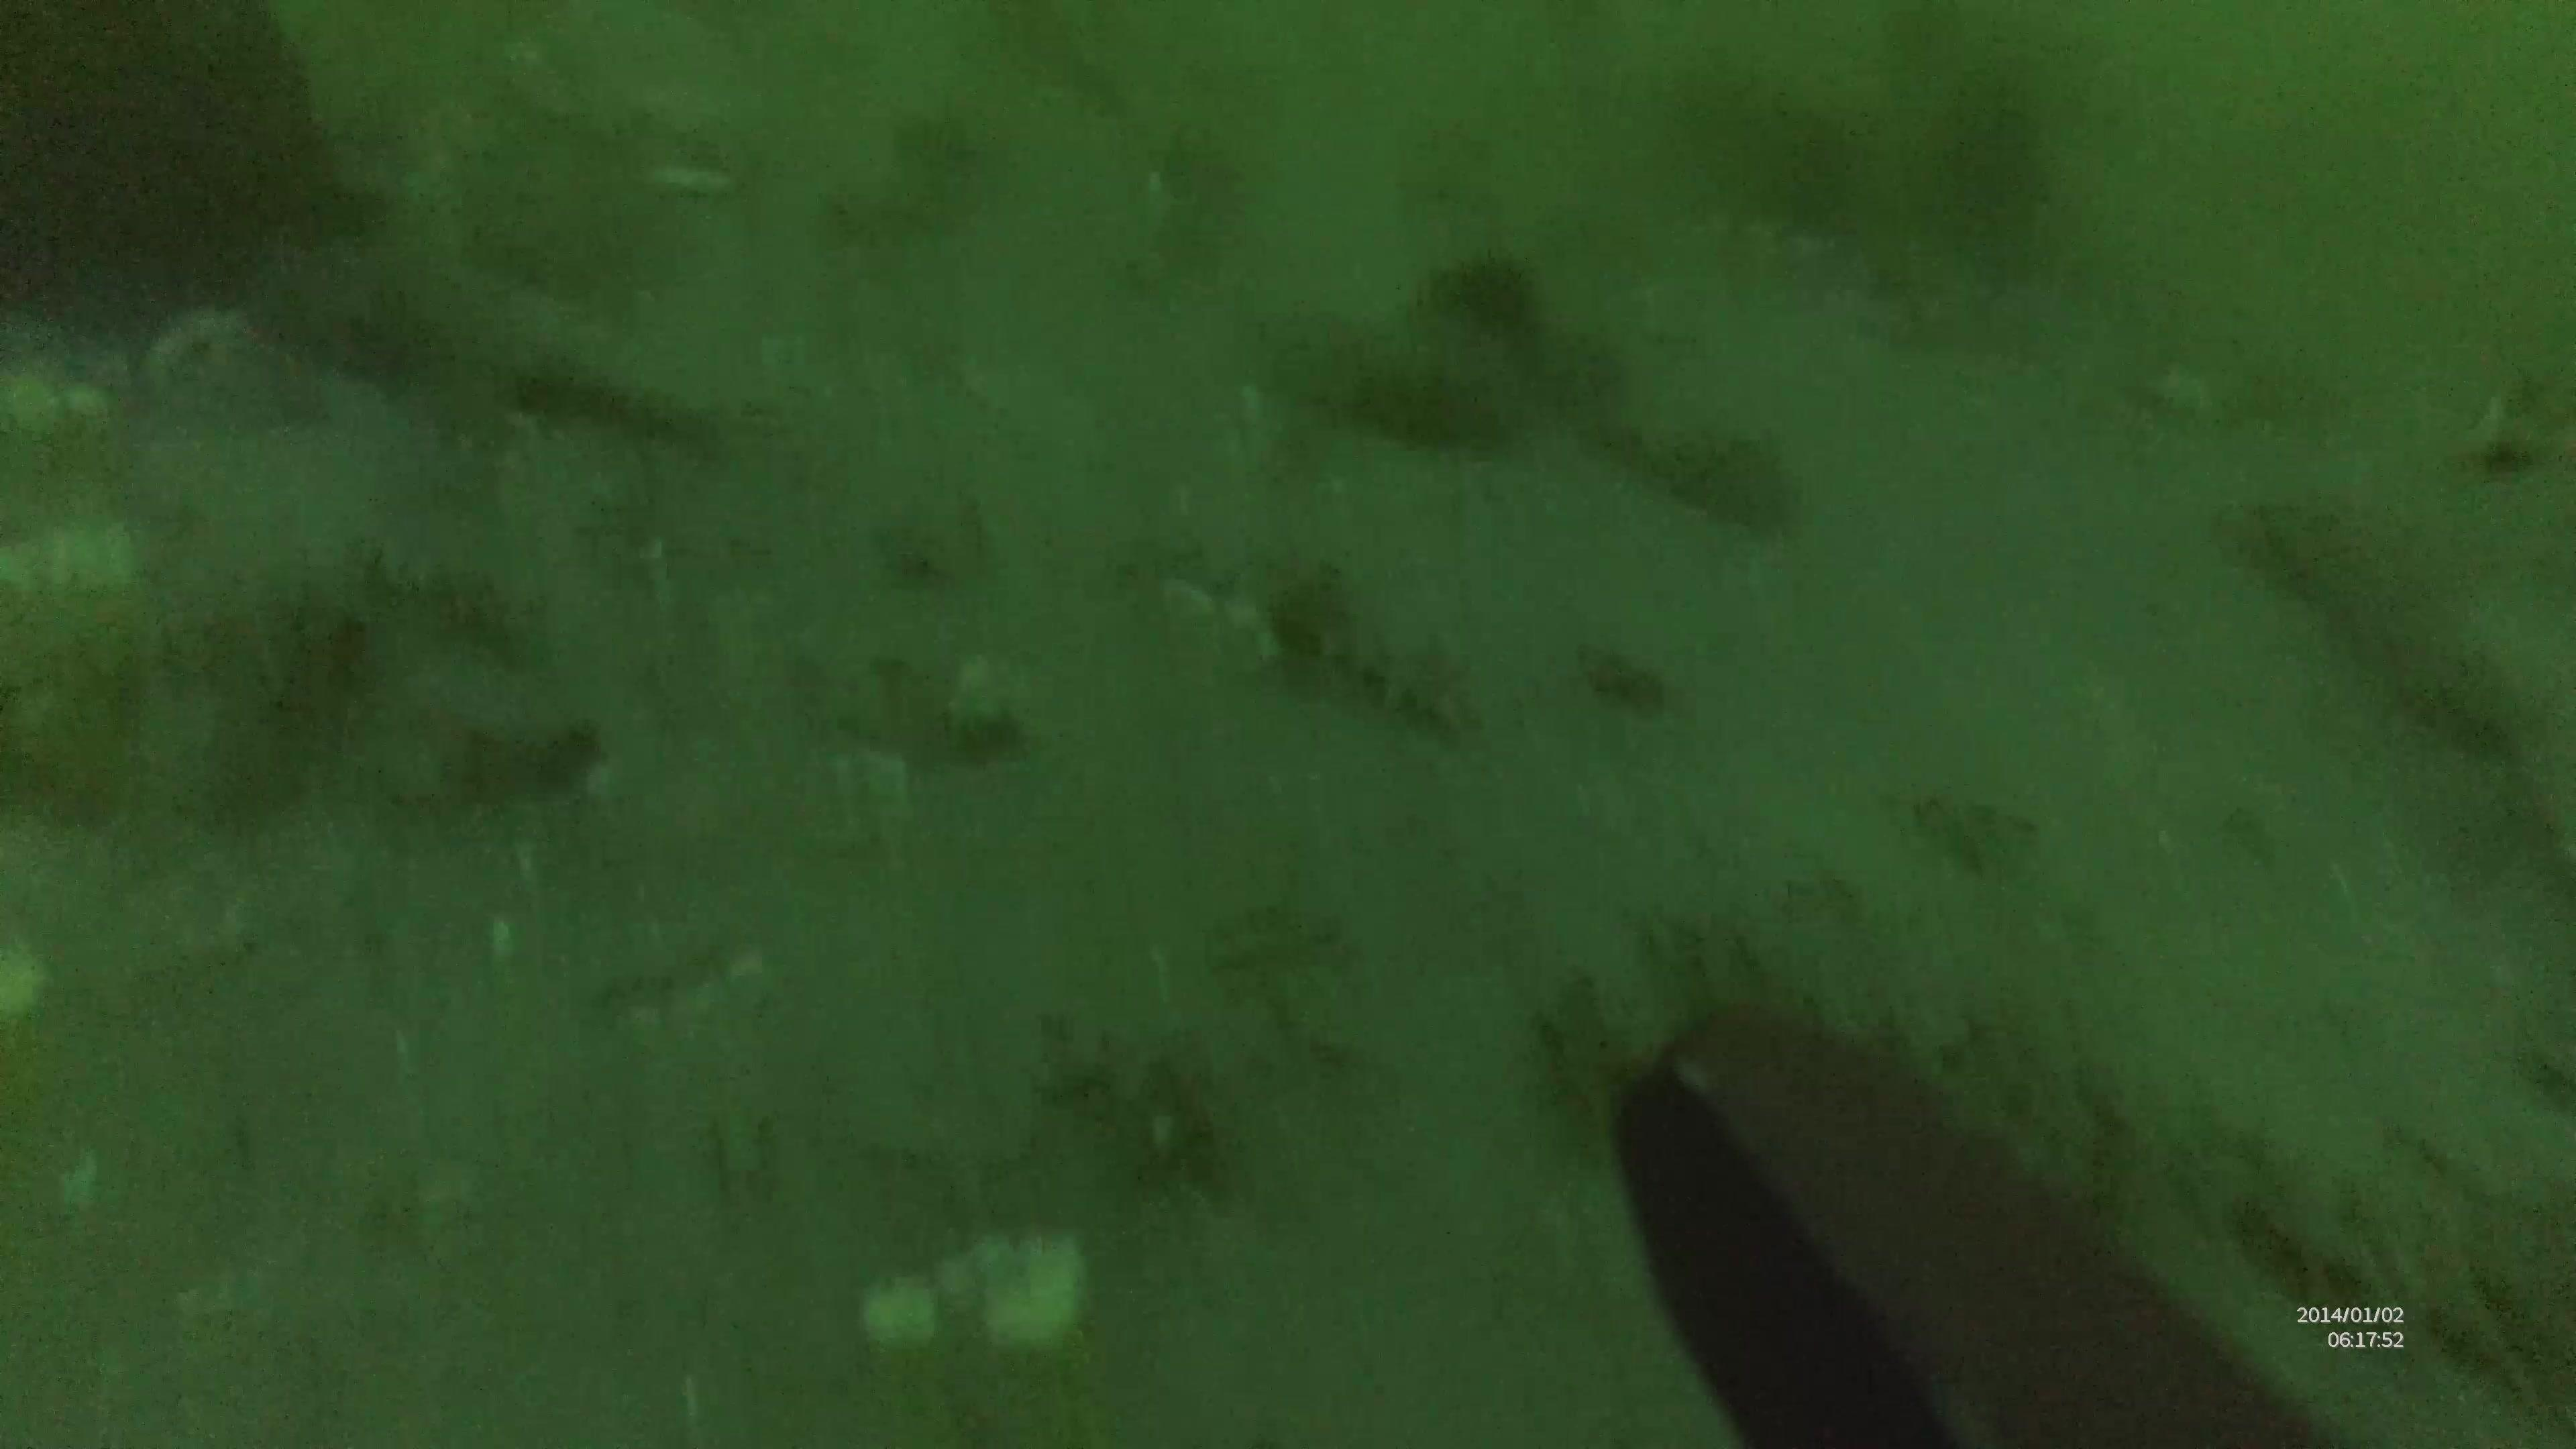holothurian: (2220, 1125, 2576, 1421), (1267, 589, 1488, 732)
